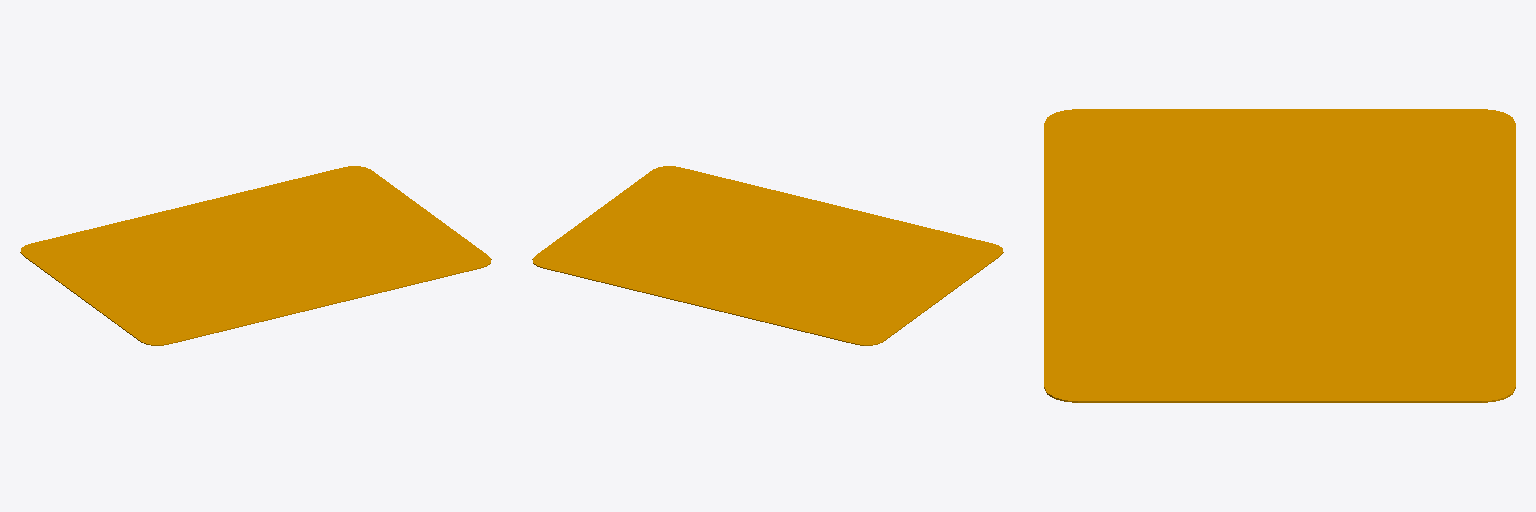
robot.urdf — mujoco_card:
<robot name="mujoco_card">
  <link name="base">
    <visual><geometry><mesh filename="mujoco_card.normalized.obj"/></geometry></visual>
    <collision><geometry><mesh filename="mujoco_card.collision_box.obj"/></geometry></collision>
  </link>
</robot>

--- What the picture shows (computed from the rendered views, not written in the file) ---
The picture shows the robot from 3 angles, left to right: view 1: azimuth 30°, elevation 25°; view 2: azimuth 150°, elevation 25°; view 3: azimuth 270°, elevation 25°; orthographic projection.
Model mujoco_card with 1 links and 0 joints (none), rooted at base, posed all joints at 0.
Visible links, largest first — view 1: base; view 2: base; view 3: base.
Link boxes in pixels (x1,y1,x2,y2): base: [20, 166, 491, 345]; base: [532, 166, 1003, 345]; base: [1044, 109, 1515, 402].
Bounding box of the posed robot: 1 × 0.6809 × 0.0027 m (x, y, z).
1 mesh visuals loaded from 1 distinct referenced files (1 OBJ).
